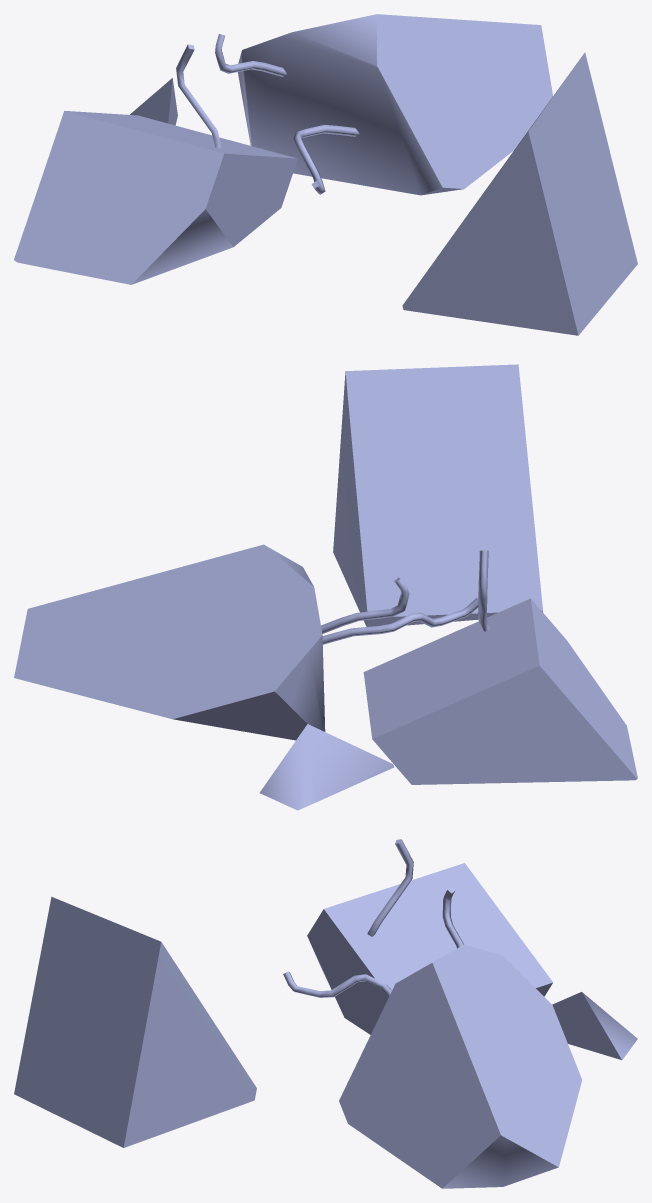
Rendered from ConcreteStackCell_04.fbx.
3 views of the same model, one above another, from view 1: azimuth 30°, elevation 25°; view 2: azimuth 150°, elevation 25°; view 3: azimuth 270°, elevation 25° (orthographic). The views are drawn at different scales.
Visible parts, largest first — view 1: Concrete_Stack_Cell_04_LOD0; view 2: Concrete_Stack_Cell_04_LOD0; view 3: Concrete_Stack_Cell_04_LOD0.
Part boxes in pixels (x1,y1,x2,y2): Concrete_Stack_Cell_04_LOD0: [14, 14, 637, 335]; Concrete_Stack_Cell_04_LOD0: [14, 364, 637, 810]; Concrete_Stack_Cell_04_LOD0: [14, 839, 637, 1188].
Size of what is drawn, in the model's own units: 1.46 by 0.5031 by 1.49.
